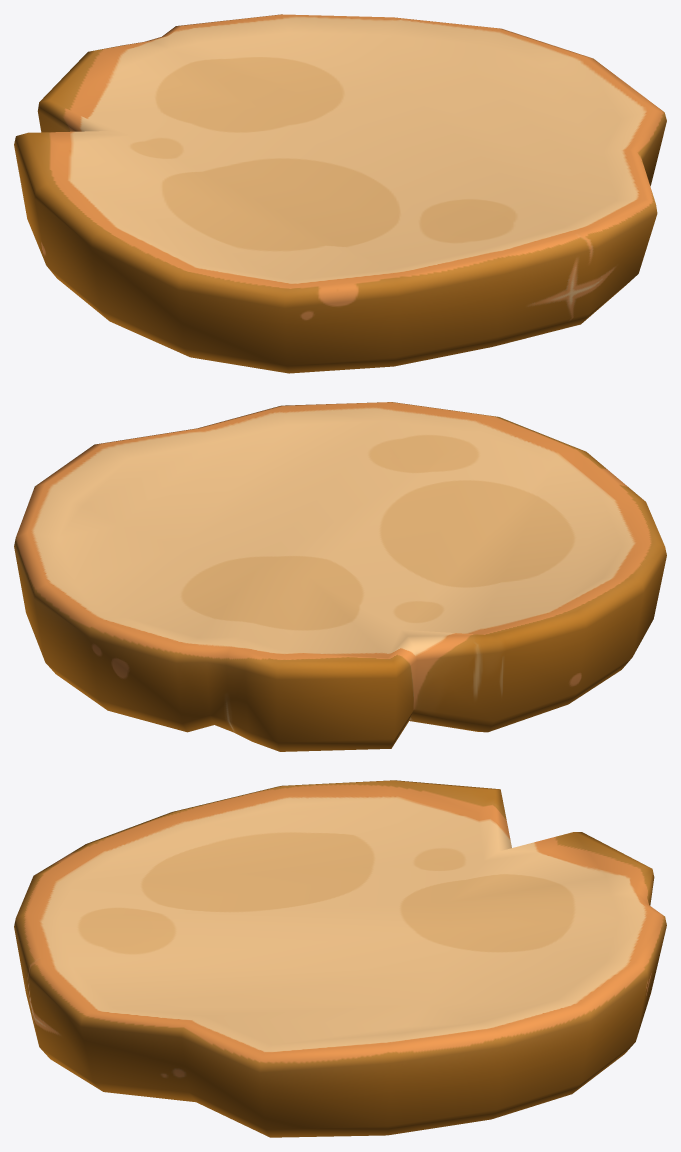
The model's file is BunBot.fbx.
The picture shows the model from 3 angles, top to bottom: view 1: azimuth 30°, elevation 25°; view 2: azimuth 150°, elevation 25°; view 3: azimuth 270°, elevation 25°; orthographic projection.
Parts seen in each view (by area): view 1: BunBot; view 2: BunBot; view 3: BunBot.
Boxes of the visible parts, left/top/right/bottom form: BunBot: left=14, top=14, right=666, bottom=373; BunBot: left=14, top=402, right=666, bottom=751; BunBot: left=14, top=780, right=666, bottom=1137.
Size of the model in its own units: 72.84 by 14.56 by 73.19.
